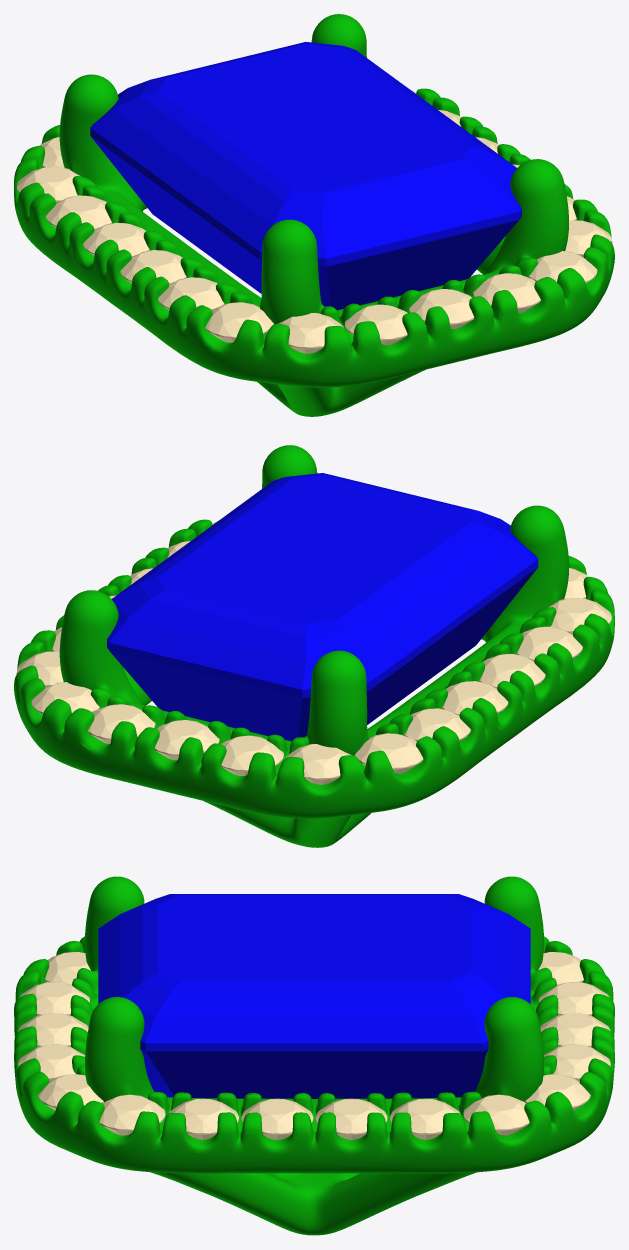
3 renders of one model, top to bottom at view 1: azimuth 30°, elevation 25°; view 2: azimuth 150°, elevation 25°; view 3: azimuth 270°, elevation 25°, orthographic.
Parts seen in each view (by area): view 1: Diamond_Emerald, Metal01, Diamond_Round.006, Diamond_Round.003, Diamond_Round.005, Diamond_Round.004, Diamond_Round.013, Diamond_Round.008, Diamond_Round.016, Diamond_Round.007, Diamond_Round.017, Diamond_Round.018 (+2 smaller); view 2: Diamond_Emerald, Metal01, Diamond_Round.018, Diamond_Round.021, Diamond_Round.019, Diamond_Round.020, Diamond_Round, Diamond_Round.016, Diamond_Round.008, Diamond_Round.007, Diamond_Round.017, Diamond_Round.006 (+2 smaller); view 3: Diamond_Emerald, Metal01, Diamond_Round.011, Diamond_Round.015, Diamond_Round.001, Diamond_Round.009, Diamond_Round.002, Diamond_Round.010, Diamond_Round.021, Diamond_Round.003, Diamond_Round.004, Diamond_Round.020 (+6 smaller).
Boxes of the visible parts, bbox=[...] form: Diamond_Emerald: bbox=[90, 42, 521, 310]; Metal01: bbox=[14, 14, 614, 416]; Diamond_Round.006: bbox=[205, 302, 273, 342]; Diamond_Round.003: bbox=[409, 289, 474, 328]; Diamond_Round.005: bbox=[278, 313, 343, 353]; Diamond_Round.004: bbox=[345, 304, 407, 344]; Diamond_Round.013: bbox=[473, 273, 540, 312]; Diamond_Round.008: bbox=[120, 250, 186, 284]; Diamond_Round.016: bbox=[83, 222, 149, 257]; Diamond_Round.007: bbox=[158, 277, 224, 310]; Diamond_Round.017: bbox=[46, 195, 111, 230]; Diamond_Round.018: bbox=[17, 166, 80, 203]; Diamond_Emerald: bbox=[107, 473, 538, 741]; Metal01: bbox=[14, 445, 614, 847]; Diamond_Round.018: bbox=[354, 733, 423, 773]; Diamond_Round.021: bbox=[154, 720, 219, 760]; Diamond_Round.019: bbox=[285, 744, 351, 784]; Diamond_Round.020: bbox=[221, 735, 283, 775]; Diamond_Round: bbox=[88, 704, 155, 743]; Diamond_Round.016: bbox=[442, 681, 508, 715]; Diamond_Round.008: bbox=[479, 654, 545, 688]; Diamond_Round.007: bbox=[516, 626, 582, 660]; Diamond_Round.017: bbox=[404, 708, 470, 741]; Diamond_Round.006: bbox=[548, 598, 611, 634]; Diamond_Emerald: bbox=[98, 894, 530, 1098]; Metal01: bbox=[14, 876, 614, 1235]; Diamond_Round.011: bbox=[99, 1094, 165, 1135]; Diamond_Round.015: bbox=[463, 1094, 529, 1135]; Diamond_Round.001: bbox=[315, 1098, 387, 1139]; Diamond_Round.009: bbox=[241, 1098, 313, 1139]; Diamond_Round.002: bbox=[390, 1098, 460, 1139]; Diamond_Round.010: bbox=[169, 1098, 238, 1139]; Diamond_Round.021: bbox=[540, 1013, 610, 1046]; Diamond_Round.003: bbox=[18, 1013, 88, 1046]; Diamond_Round.004: bbox=[19, 982, 89, 1015]; Diamond_Round.020: bbox=[539, 982, 609, 1015].
Bounding box in the file's own units: 10.86 × 7.14 × 13.41.
